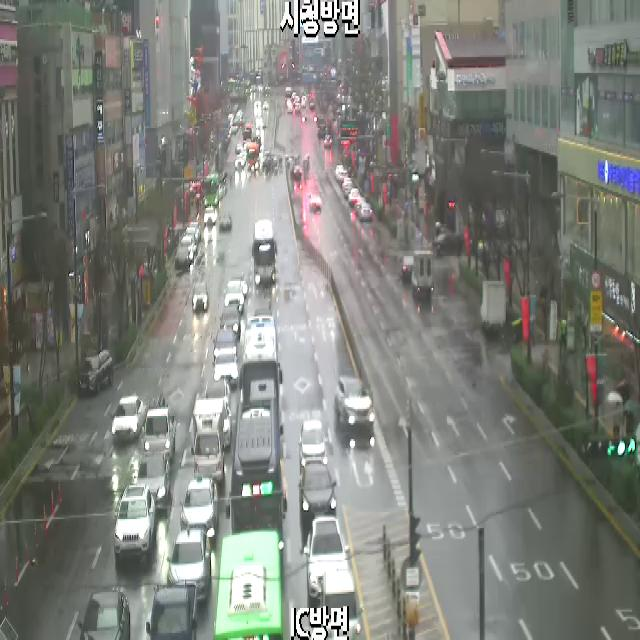Bus: (226, 378, 287, 560), (213, 530, 284, 640), (240, 315, 282, 403), (252, 218, 277, 286), (204, 174, 219, 207), (246, 142, 260, 170)
Car: (304, 516, 350, 602), (166, 529, 211, 602), (114, 484, 155, 557), (145, 583, 196, 640), (322, 573, 361, 640), (298, 465, 338, 530), (78, 591, 130, 640), (180, 477, 219, 541), (334, 377, 375, 434), (134, 453, 170, 509), (298, 419, 328, 474), (78, 350, 113, 394), (112, 395, 146, 439), (212, 353, 238, 388), (432, 232, 464, 258), (213, 328, 237, 361), (219, 306, 241, 341), (205, 379, 230, 407), (224, 281, 244, 314), (192, 282, 209, 312), (222, 406, 232, 450), (230, 273, 249, 296), (175, 244, 190, 270), (400, 257, 414, 283), (185, 228, 198, 254), (181, 237, 194, 263), (358, 204, 374, 222), (219, 212, 232, 232), (204, 206, 216, 226), (189, 222, 201, 241), (353, 197, 366, 214), (310, 194, 322, 212), (349, 188, 360, 205), (234, 155, 244, 171), (338, 170, 348, 186), (291, 166, 302, 179), (334, 164, 344, 178), (345, 183, 353, 200), (342, 178, 352, 191), (323, 135, 332, 148)
Truck: (191, 398, 224, 483), (144, 408, 176, 463), (479, 281, 506, 334), (411, 250, 434, 296)
